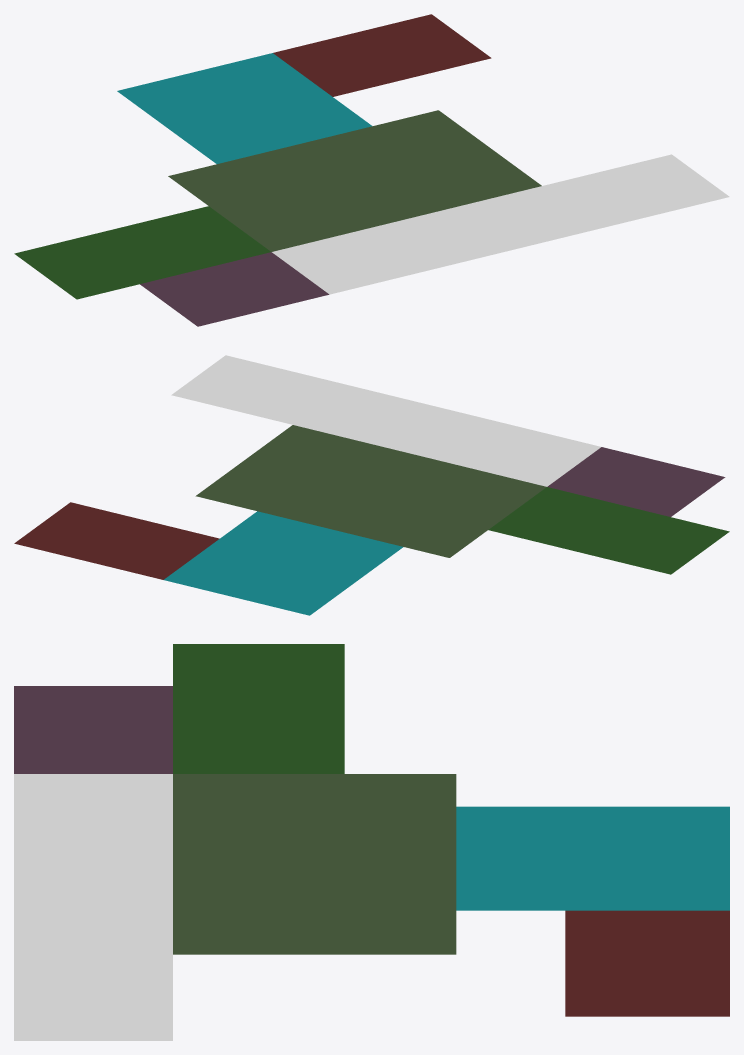
File: FLOOR.glb
3 renders of one model, top to bottom at view 1: azimuth 30°, elevation 25°; view 2: azimuth 150°, elevation 25°; view 3: azimuth 270°, elevation 25°, orthographic. The views are drawn at different scales.
Parts seen in each view (by area): view 1: roof.001; view 2: roof.001; view 3: roof.001.
Boxes of the visible parts, x1,y1,x2,y2 form: roof.001: [14, 14, 729, 326]; roof.001: [14, 355, 729, 615]; roof.001: [14, 644, 729, 1040].
Size of the model in its own units: 7.72 by 0 by 5.88.
